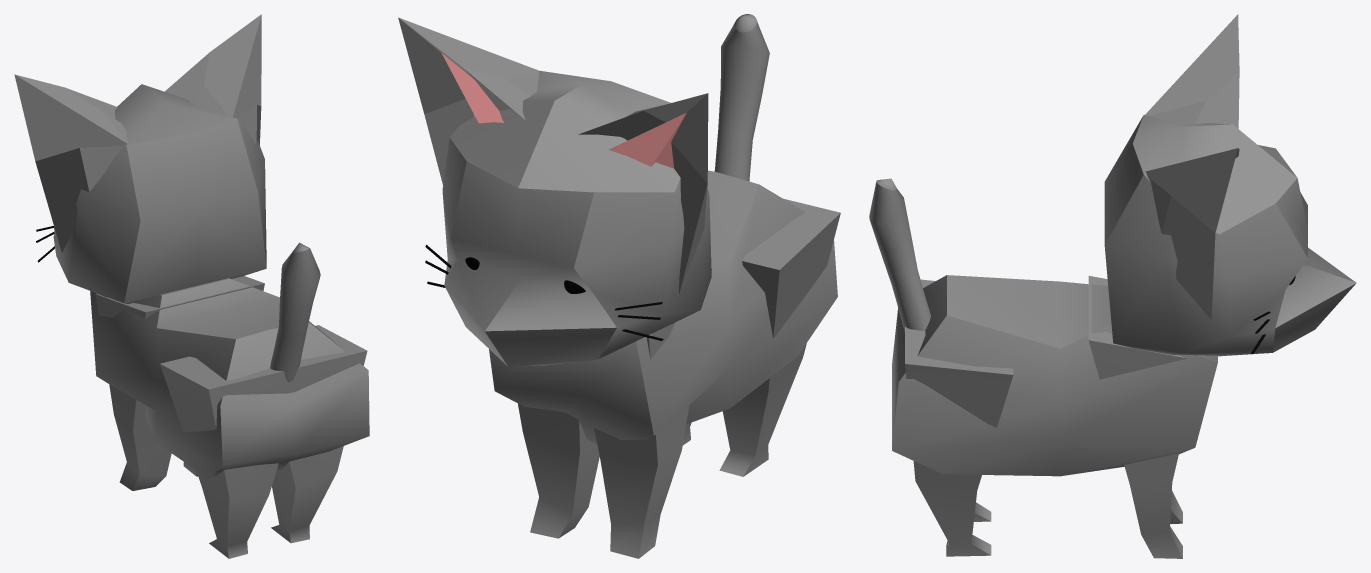
The model's file is kitten_gray-fixed.fbx.
The picture shows the model from 3 angles, left to right: view 1: azimuth 30°, elevation 25°; view 2: azimuth 150°, elevation 25°; view 3: azimuth 270°, elevation 25°; orthographic projection. The views are drawn at different scales.
Parts seen in each view (by area): view 1: head, body, leg2, pPyramid4, pPyramid5, leg1, tail1; view 2: head, body, leg1, leg2, pPyramid5, pPyramid4, tail1; view 3: body, head, leg2, pPyramid5, leg1, pPyramid4, tail1.
Boxes of the visible parts, x1,y1,x2,y2 form: head: [53, 84, 266, 303]; body: [90, 278, 369, 479]; leg2: [160, 325, 367, 558]; pPyramid4: [14, 74, 127, 252]; pPyramid5: [164, 14, 261, 145]; leg1: [95, 276, 264, 490]; tail1: [270, 242, 320, 382]; head: [442, 71, 711, 366]; body: [489, 170, 837, 443]; leg1: [518, 267, 712, 558]; leg2: [682, 198, 840, 476]; pPyramid5: [398, 17, 539, 184]; pPyramid4: [578, 93, 708, 294]; tail1: [714, 14, 769, 181]; body: [892, 275, 1217, 476]; head: [1104, 115, 1356, 356]; leg2: [905, 279, 1013, 556]; pPyramid5: [1145, 148, 1239, 319]; leg1: [1088, 276, 1187, 558]; pPyramid4: [1144, 14, 1239, 128]; tail1: [869, 178, 930, 331].
Bounding box in the file's own units: 25.2 × 39.88 × 38.73.
